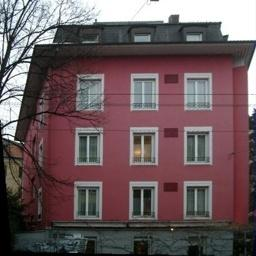building: (44, 0, 250, 256)
